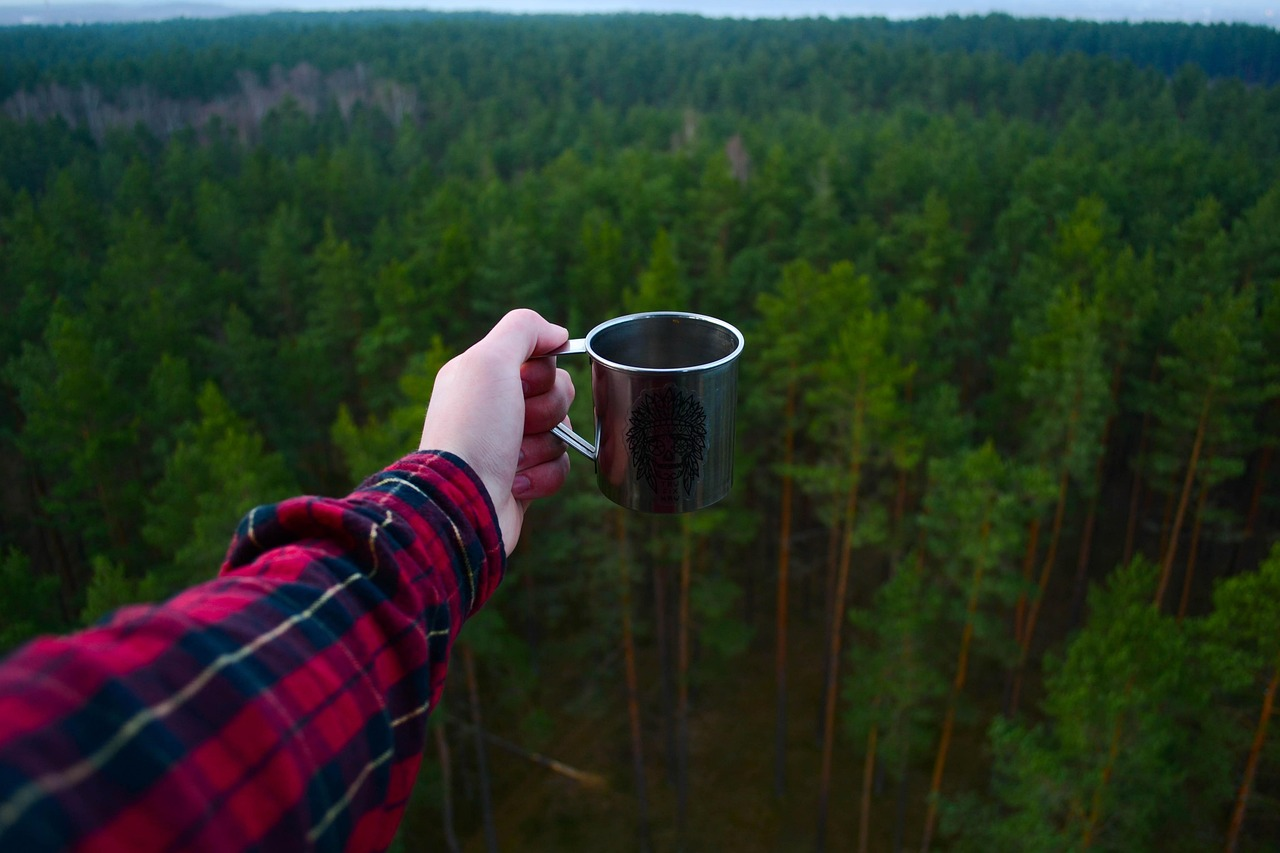mug: (522, 283, 779, 543)
